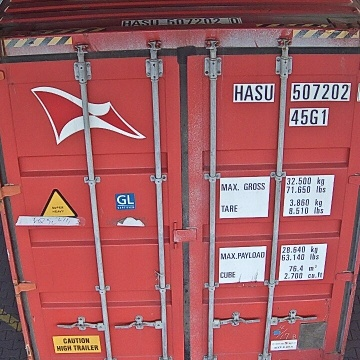serial_id: (234, 84, 360, 101)
